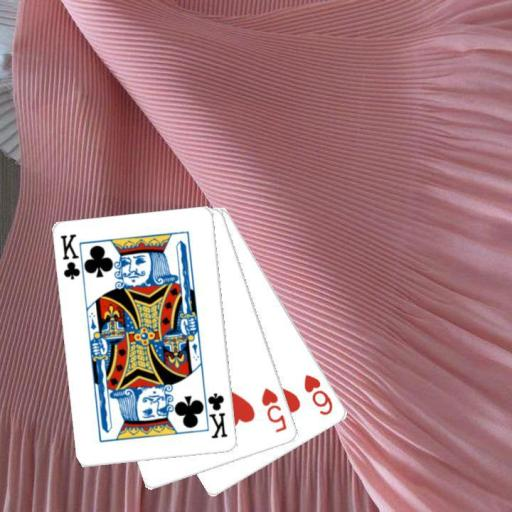5H: (259, 385, 289, 435)
6H: (301, 372, 335, 418)
KC: (58, 231, 88, 286), (200, 386, 229, 440)
